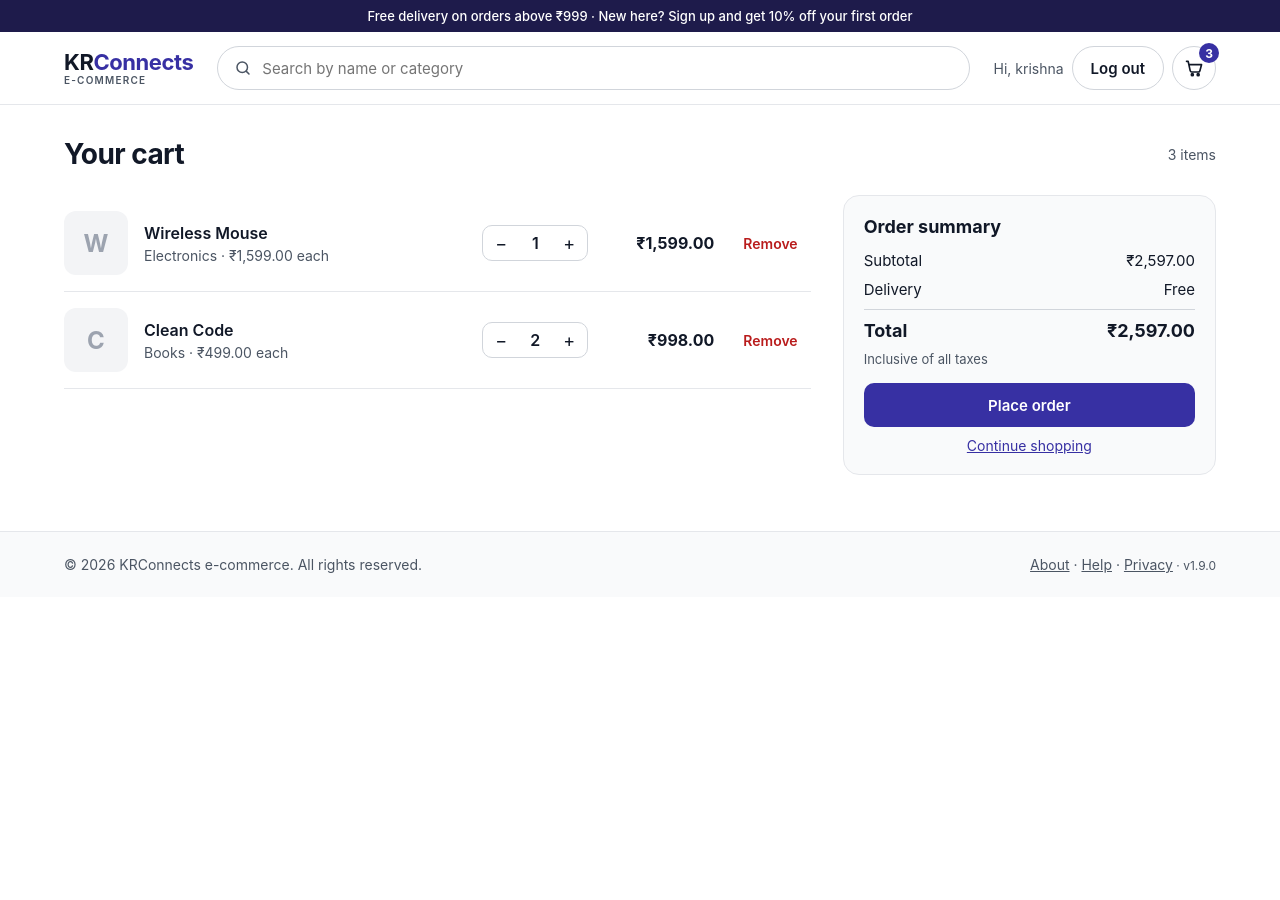
Test: CartPage › logged-in user places an order: saved order is shown and the cart is emptied
Click the button "Place order" at (1029, 405), box [864,383,1195,427]
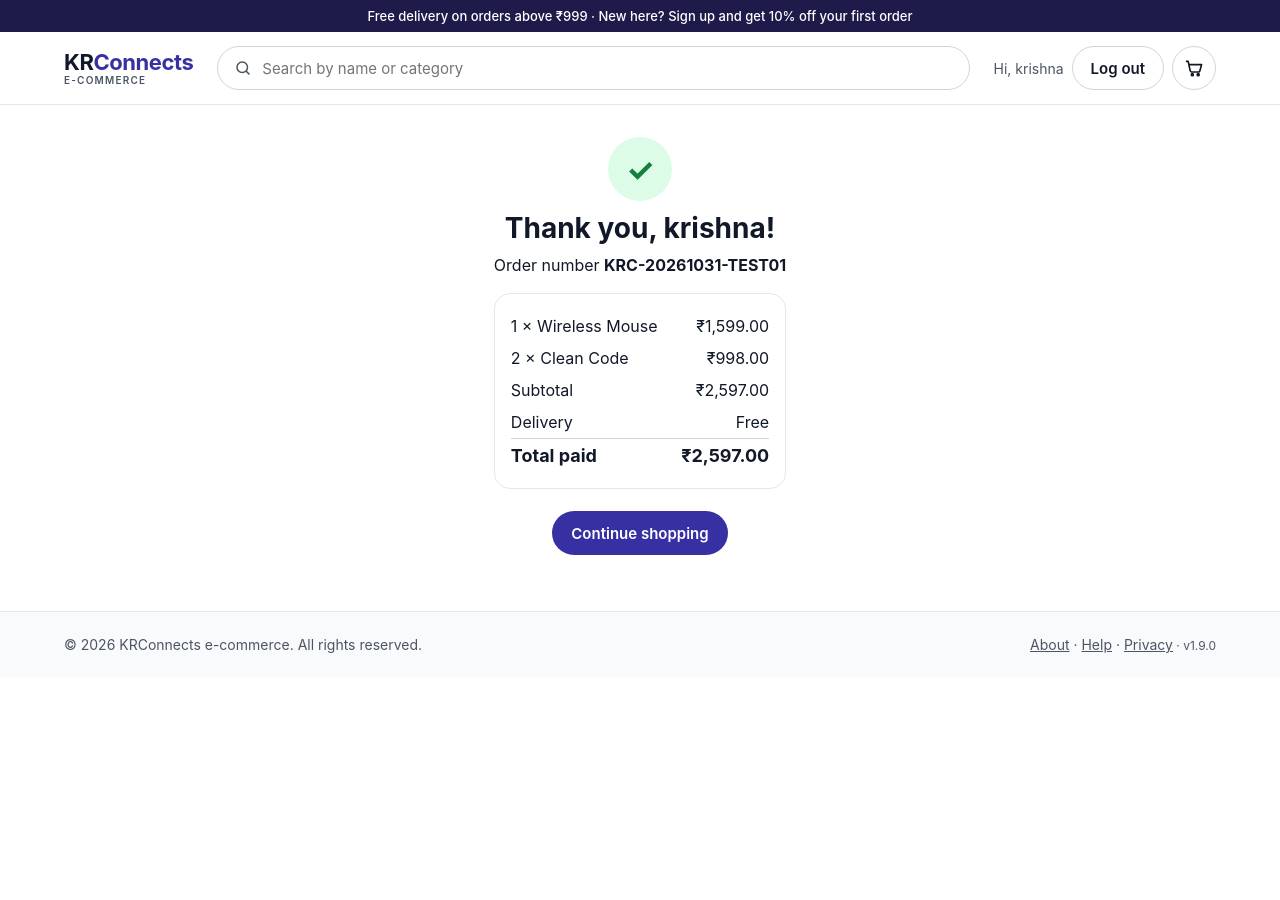
Result: the heading "Thank you, krishna!" is shown at [505,211,775,245]
Result: the text "KRC-20261031-TEST01" is shown at [604,255,786,275]
Result: the text "2 × Clean Code" is shown at [511,348,629,368]
